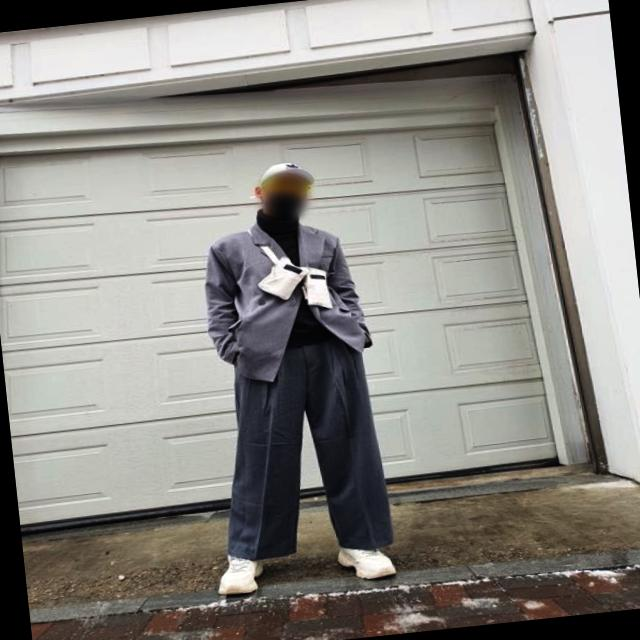blazer: (194, 212, 378, 392)
slacks: (208, 333, 400, 569)
